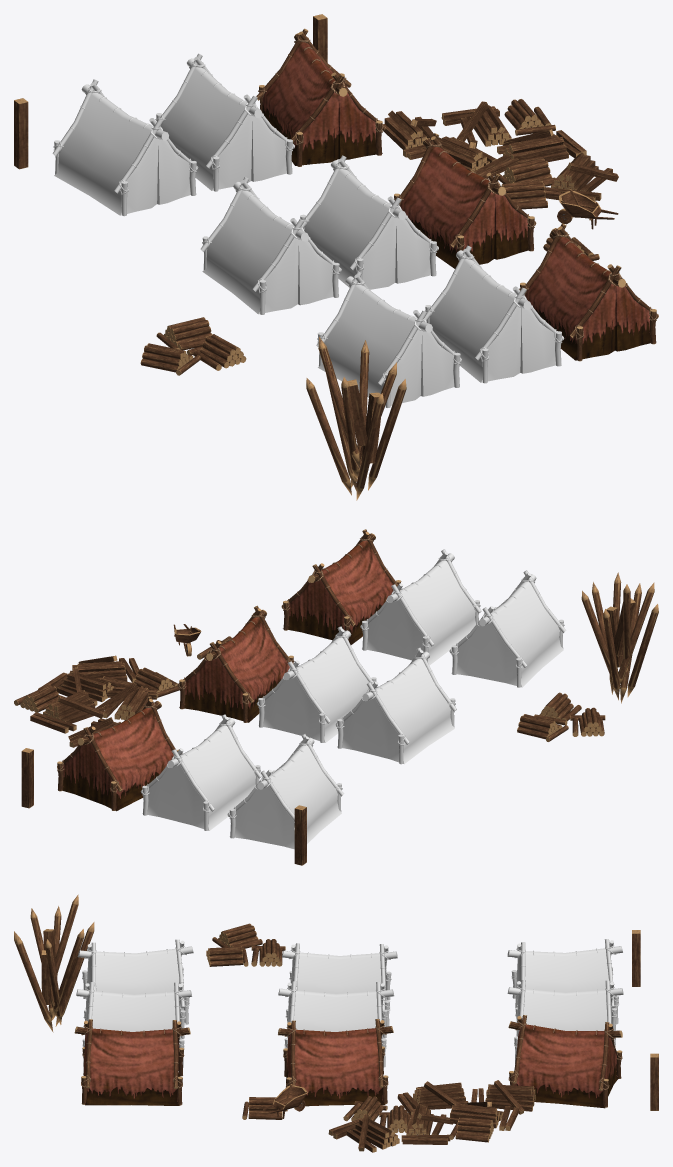
Rendered from Sketchfab_2021_08_19_03_26_5012.fbx.
The picture shows the model from 3 angles, top to bottom: view 1: azimuth 30°, elevation 25°; view 2: azimuth 150°, elevation 25°; view 3: azimuth 270°, elevation 25°; orthographic projection. The views are drawn at different scales.
Parts seen in each view (by area): view 1: Plane.006, Plane.009, Plane.011, Plane.010, Plane.007, Plane.005, Plane.012, Plane.008, Plane.004, WoodPile.012, WoodPile.008, WoodPile.009 (+16 smaller); view 2: Plane.009, Plane.005, Plane.004, Plane.011, Plane.012, Plane.008, Plane.007, Plane.006, Plane.010, WoodPile.009, WoodPile.013, WoodPile.012 (+14 smaller); view 3: Plane.010, Plane.004, Plane.007, Plane.012, Plane.006, Plane.009, Plane.008, Plane.005, Plane.011, WoodPile.008, WoodPile.013, WoodPile.011 (+18 smaller).
Part boxes in pixels (x1,y1,x2,y2): Plane.006: (52,79,198,216); Plane.009: (200,177,341,314); Plane.011: (424,245,564,383); Plane.010: (519,223,658,361); Plane.007: (394,133,536,268); Plane.005: (155,53,294,191); Plane.012: (316,271,461,407); Plane.008: (300,155,438,289); Plane.004: (256,28,385,166); WoodPile.012: (497,129,586,163); WoodPile.008: (544,152,618,201); WoodPile.009: (441,101,511,147); Plane.009: (335,647,456,764); Plane.005: (140,714,261,830); Plane.004: (57,696,182,811); Plane.011: (360,549,481,665); Plane.012: (449,570,565,687); Plane.008: (256,626,376,742); Plane.007: (177,605,294,722); Plane.006: (227,734,343,849); Plane.010: (281,529,401,644); WoodPile.009: (30,690,104,733); WoodPile.013: (96,682,157,719); WoodPile.012: (40,667,113,705); Plane.010: (74,1019,190,1105); Plane.004: (508,1015,622,1108); Plane.007: (278,1019,393,1106); Plane.012: (78,939,193,1025); Plane.006: (507,939,622,1024); Plane.009: (282,943,397,1026); Plane.008: (278,981,394,1067); Plane.005: (507,980,623,1064); Plane.011: (76,982,192,1067); WoodPile.008: (328,1114,399,1152); WoodPile.013: (397,1081,468,1115); WoodPile.011: (471,1080,535,1114).
Size of the model in its own units: 1694 by 467 by 2104.
